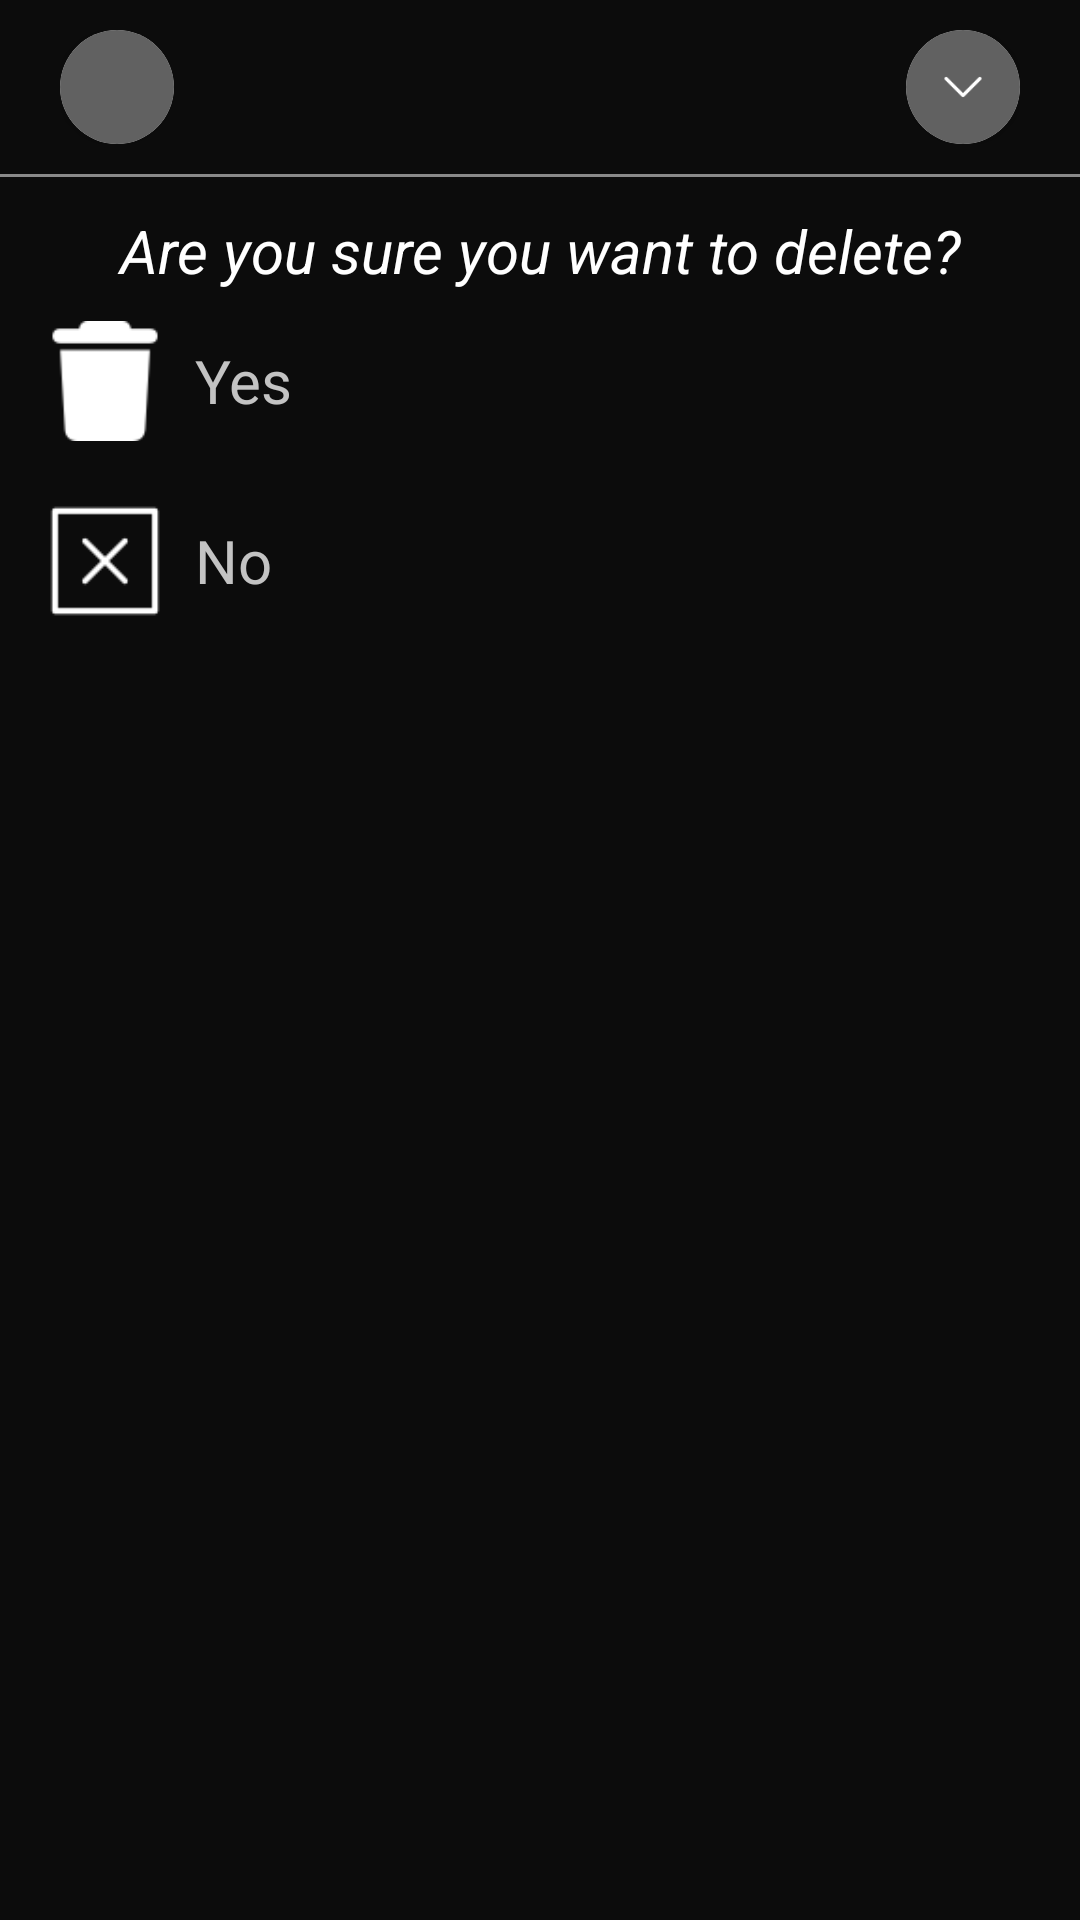

Icons on this 1080 × 1920 Android screen, each with its box as (x1, y1, x2, y2):
close: (50, 506, 160, 616)
down: (906, 30, 1020, 144)
